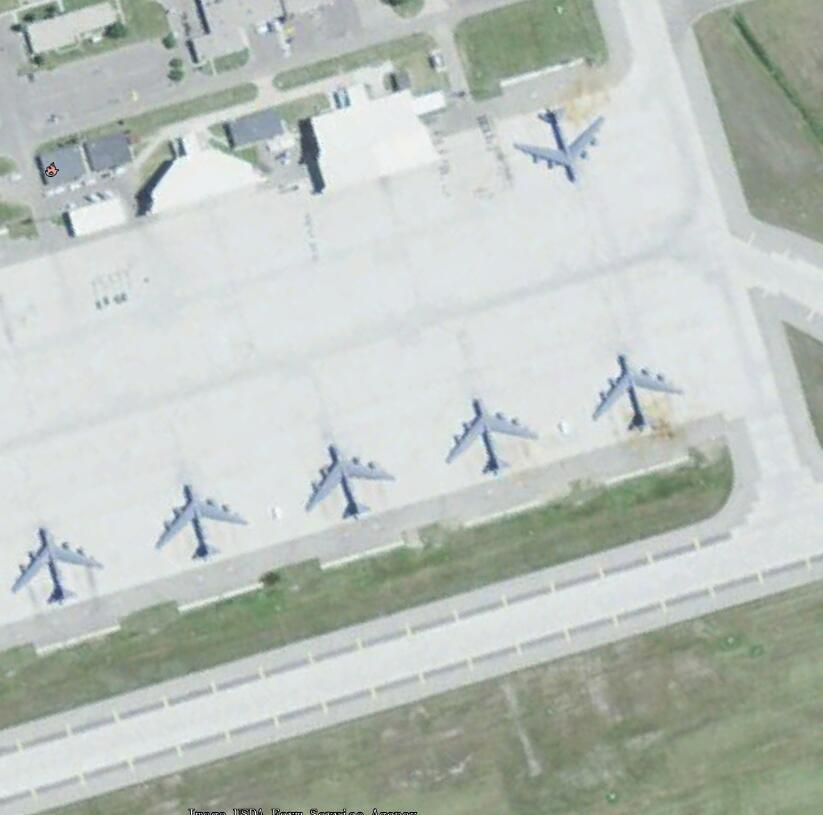A8: (443, 389, 540, 478), (513, 99, 607, 190), (591, 347, 684, 438), (296, 440, 397, 520), (14, 525, 104, 606), (155, 481, 248, 558)
